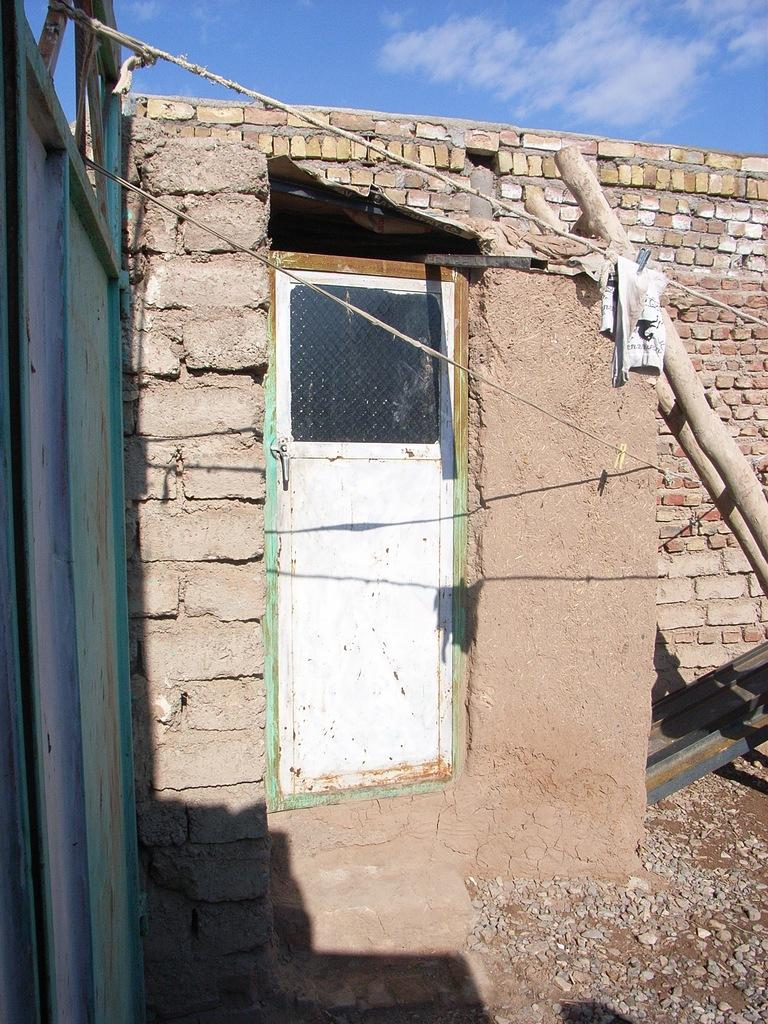handle: (277, 438, 290, 488)
